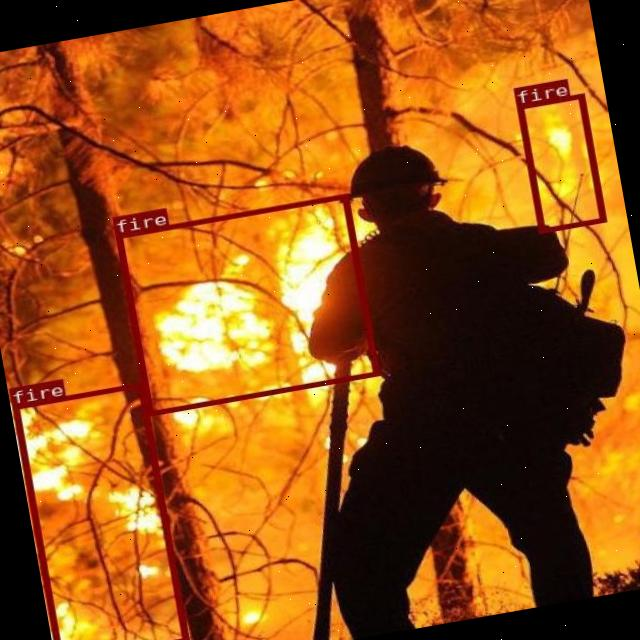fire: (114, 192, 378, 414), (11, 381, 187, 640), (516, 92, 606, 233)
